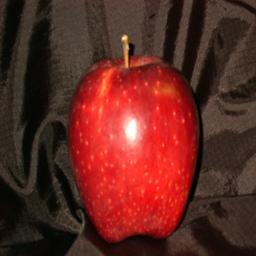apple: (65, 51, 199, 245)
